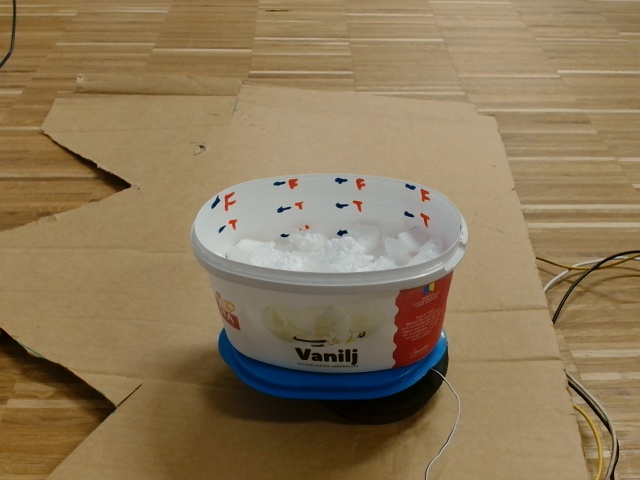Big_half: (189, 171, 470, 297)
